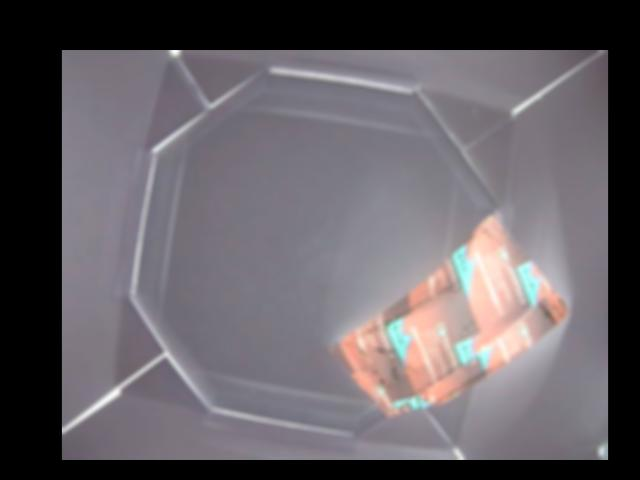Medicine: (328, 214, 571, 415)
